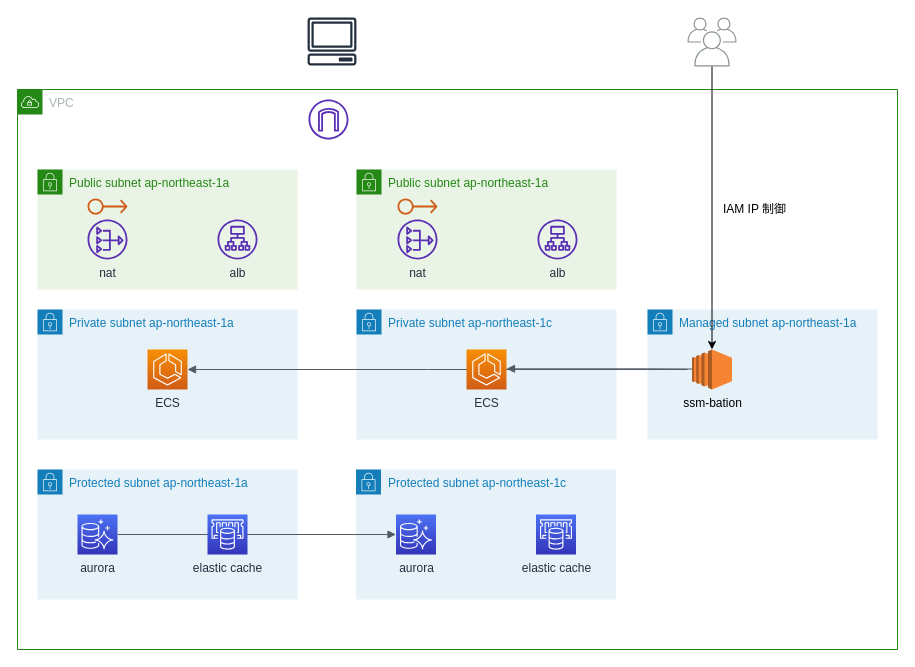
This 915x667 diagram has some shape labels left out. Each missing label, with the centre of its shape:
"client" goes at point 331,41.
"engineer" goes at point 711,41.
"IGW" goes at point 328,119.
